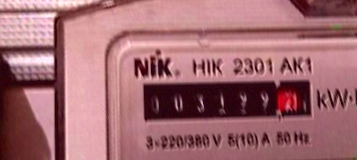0: (174, 94, 185, 113), (151, 95, 160, 113)
1: (218, 90, 227, 108)
3: (196, 93, 206, 114)
6: (284, 98, 294, 112)
9: (239, 89, 249, 109), (261, 91, 271, 109)
screen: (137, 73, 319, 128)
